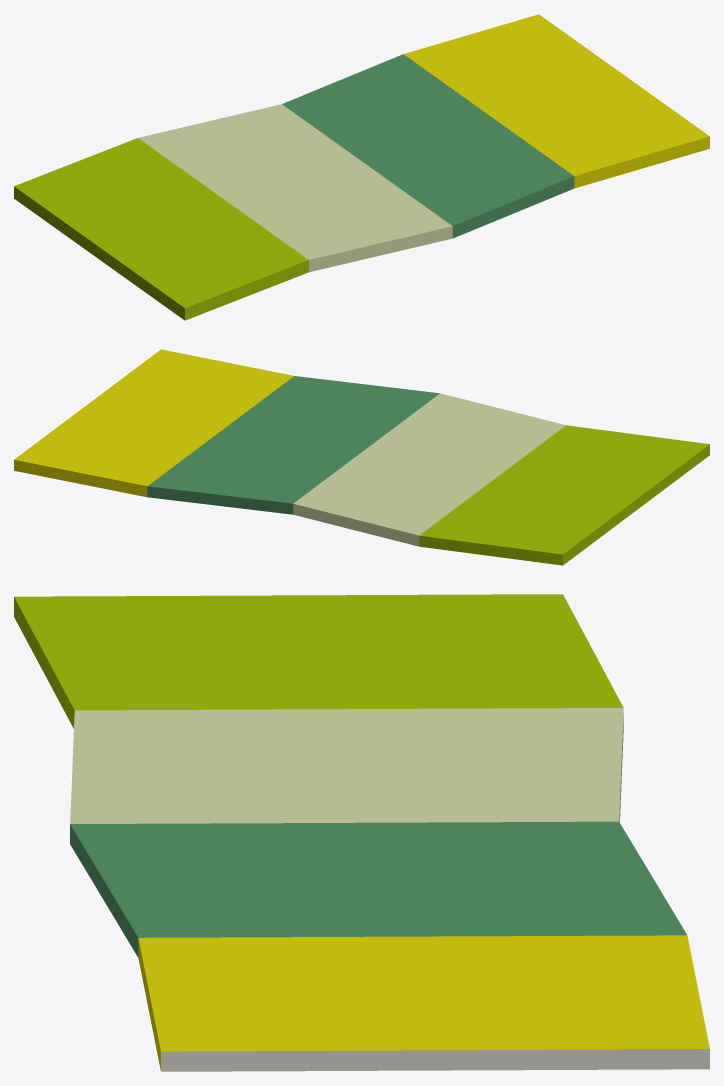
Rendered from towel02.fbx.
3 renders of one model, top to bottom at view 1: azimuth 30°, elevation 25°; view 2: azimuth 150°, elevation 25°; view 3: azimuth 270°, elevation 25°, orthographic. The views are drawn at different scales.
Parts seen in each view (by area): view 1: pCube1; view 2: pCube1; view 3: pCube1.
Part boxes in pixels (<box>): pCube1: <box>14,14,709,320</box>; pCube1: <box>14,349,709,565</box>; pCube1: <box>14,594,709,1071</box>.
Bounding box in the file's own units: 0.0438 × 0.000903 × 0.0282.
